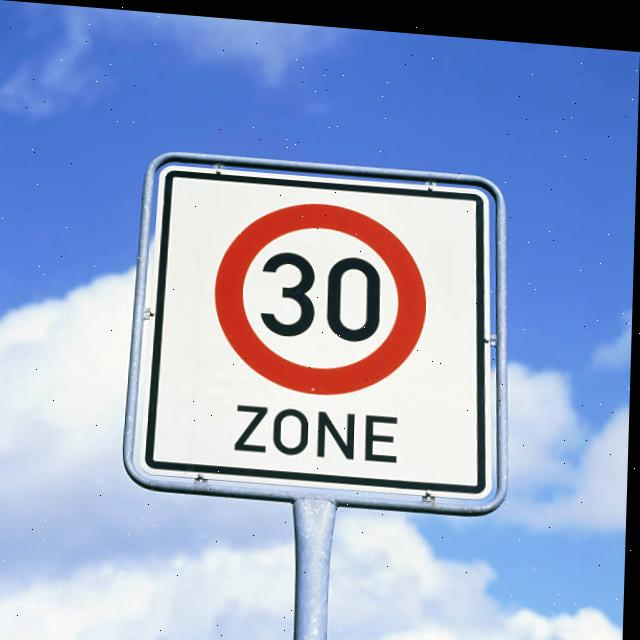Speed limit 30: (212, 190, 433, 399)
